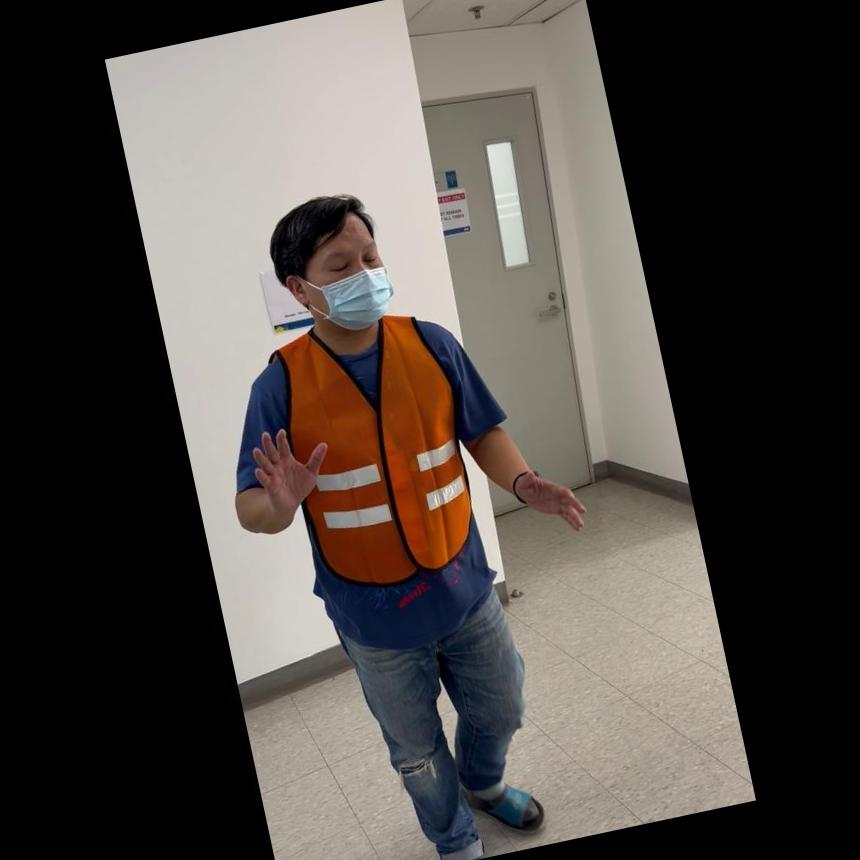No-gloves: (238, 411, 334, 518), (506, 457, 589, 544)
